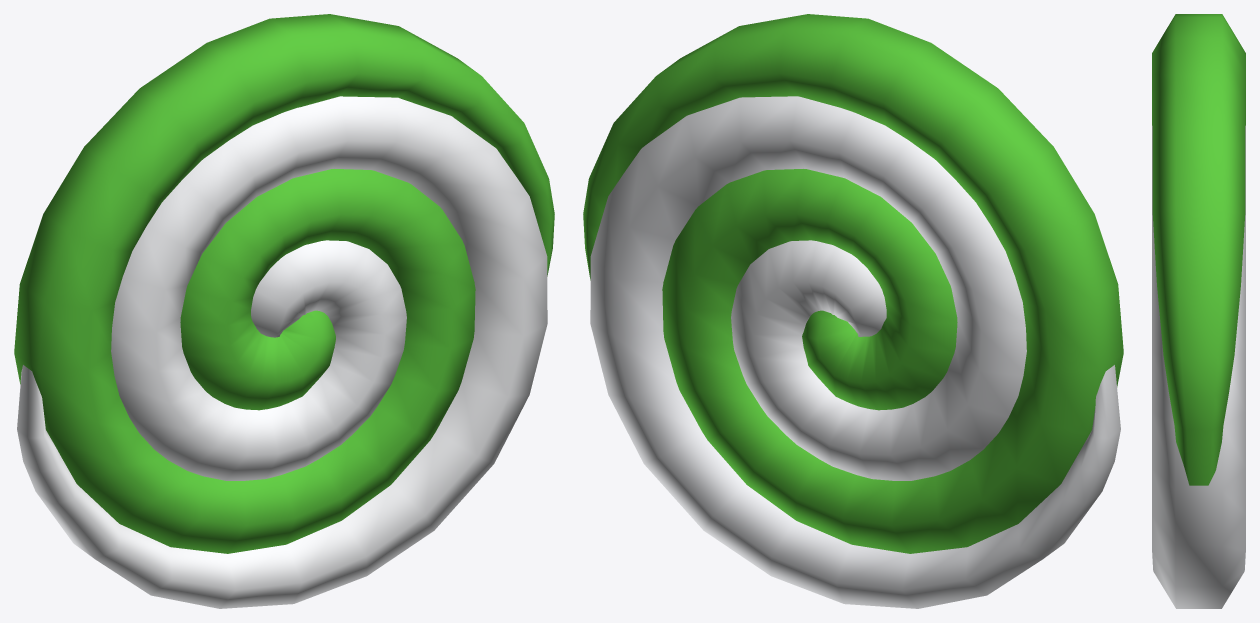
File: lollipop_014.glb
The picture shows the model from 3 angles, left to right: view 1: azimuth 30°, elevation 25°; view 2: azimuth 150°, elevation 25°; view 3: azimuth 270°, elevation 25°; orthographic projection. The views are drawn at different scales.
Visible parts, largest first — view 1: lollipop_014; view 2: lollipop_014; view 3: lollipop_014.
Part boxes in pixels (x1,y1,x2,y2): lollipop_014: [14, 14, 554, 608]; lollipop_014: [583, 14, 1123, 608]; lollipop_014: [1152, 14, 1245, 608].
Bounding box in the file's own units: 4.1 × 4.25 × 0.6662.
Materials: 1 (1 with a texture image).
